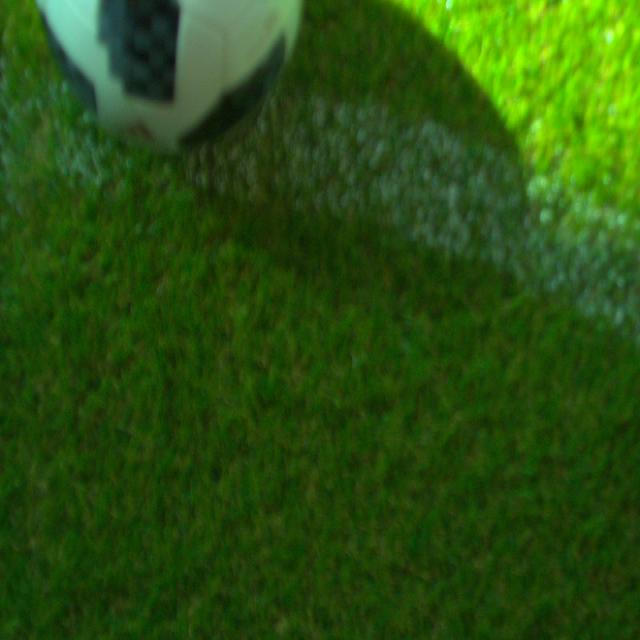ball: (27, 0, 322, 140)
